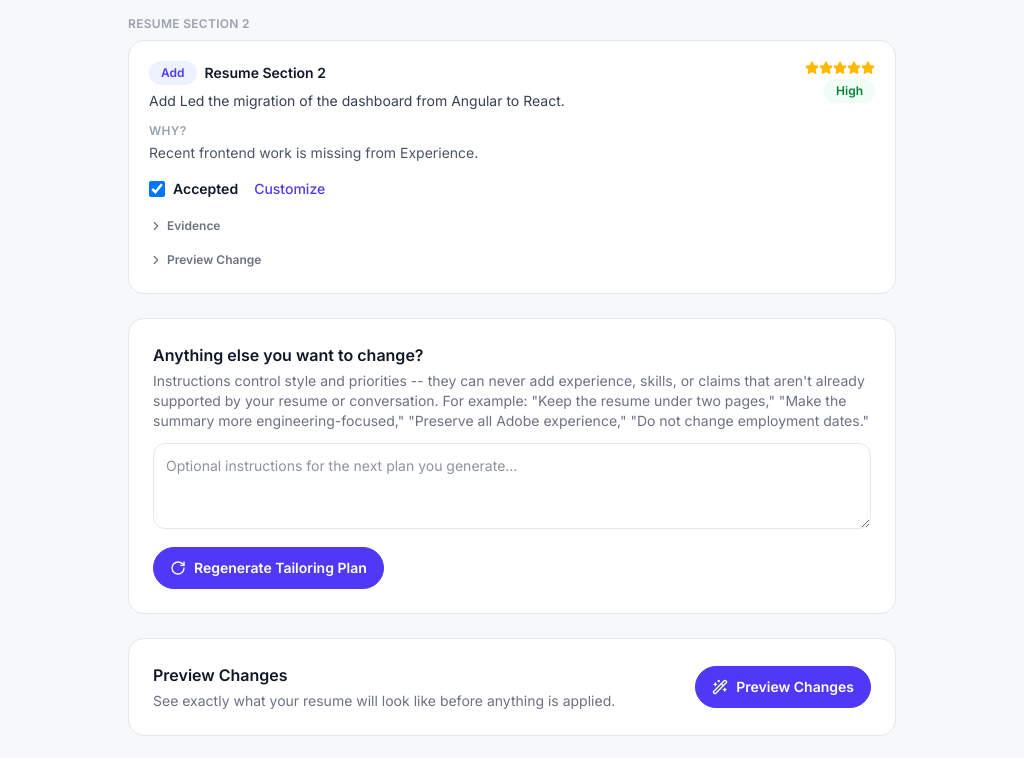
Test: TailoredResumePage: preview-first workflow (Preview Changes then Apply Now) › lets the user undo an applied suggestion, reverting it to a normal pending selection
(page scrolled)
Click the button "Preview Changes": (783, 687) [695,666,871,708]
(page scrolled)
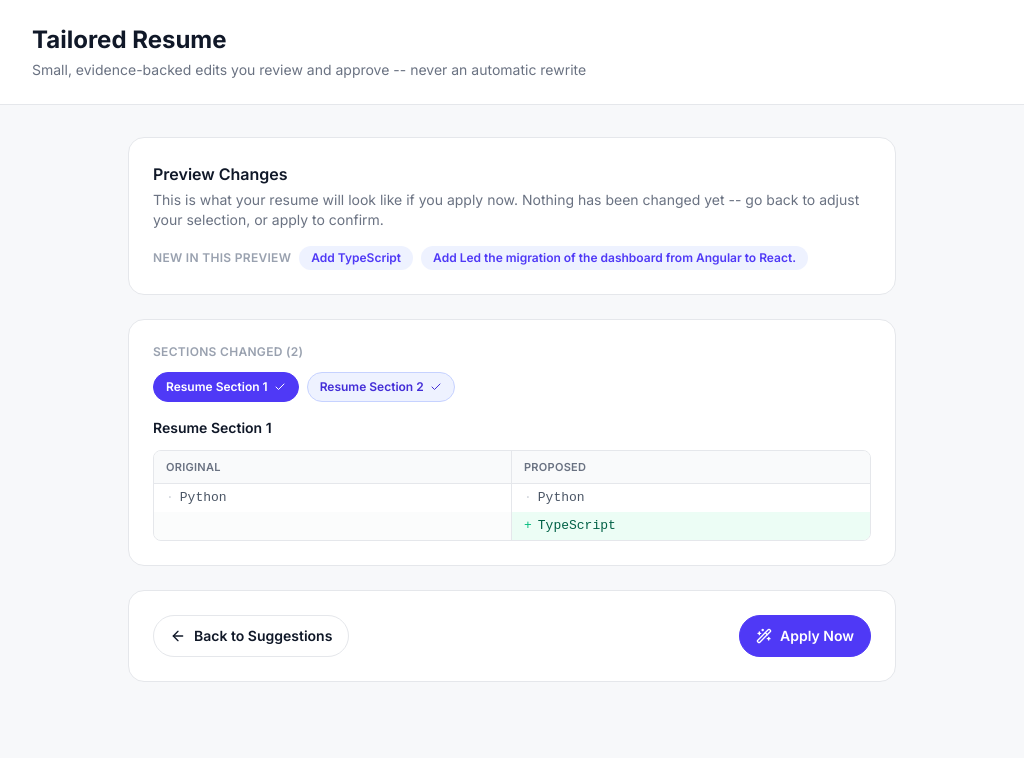
Now the button "Apply Now" is shown
Click the button "Apply Now": (805, 636) [739,615,871,657]
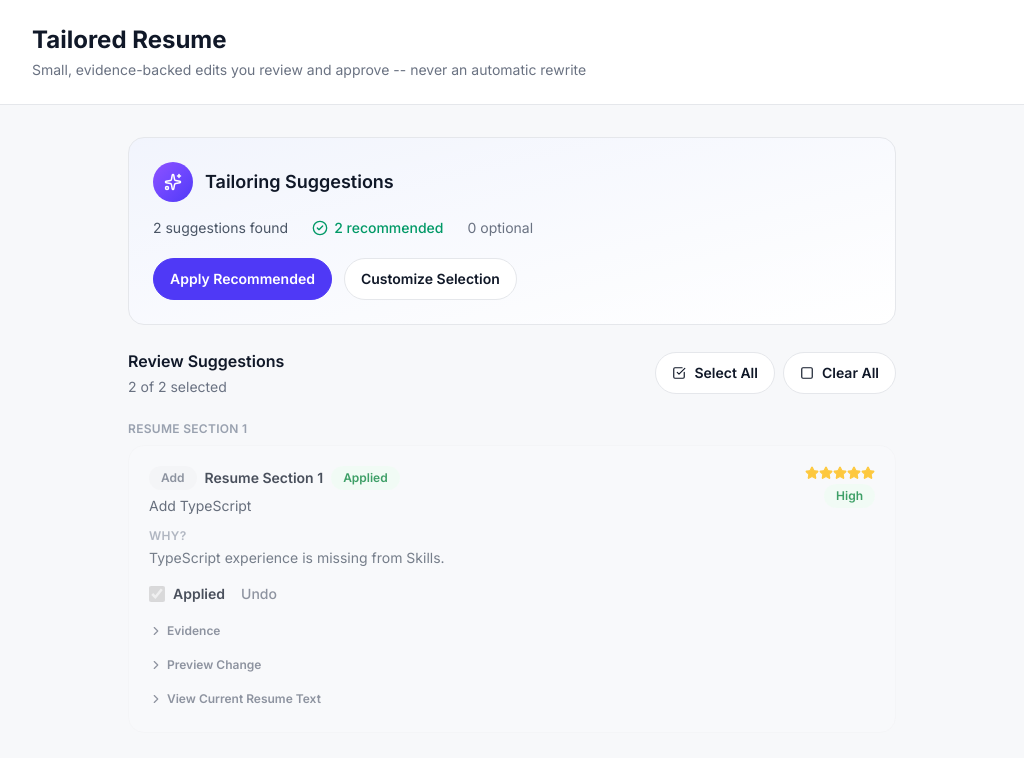
Now the 1st text "Applied" is shown, box [331,466,400,490]
Click the button "Undo": (259, 594) [241,584,277,604]
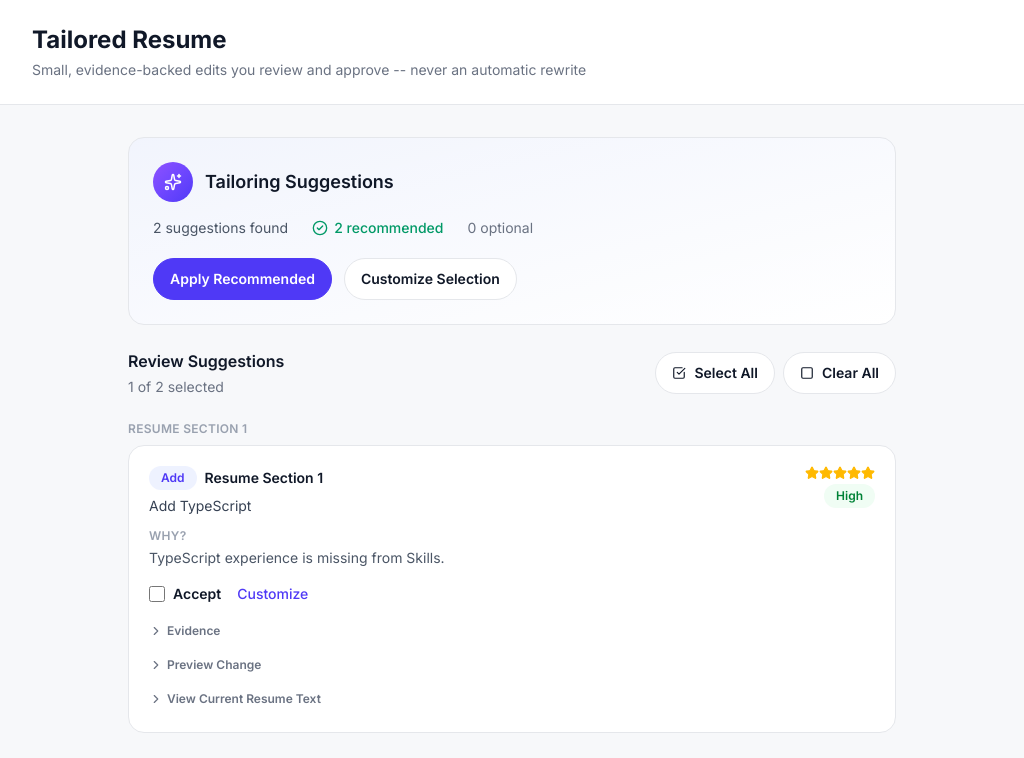
Expected: the text "Applied" is not shown
Now the checkbox named "accept suggestion: add typescript" is enabled, box [149,586,165,602]
Now the checkbox named "accept suggestion: add typescript" is not checked, box [149,586,165,602]
